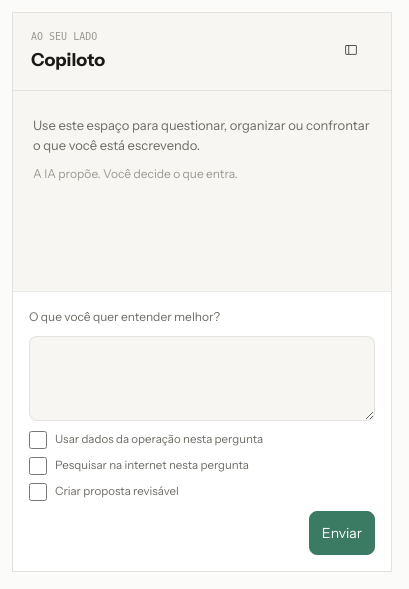
Test case: StudioCopilot › remains usable when preference storage throws
Click the button named "Recolher Copiloto" at x=351, y=52, box [329,30,373,74]
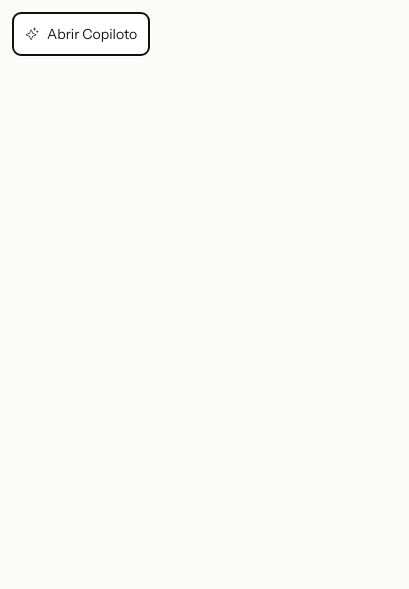
Check: the button "Abrir Copiloto" is shown, box [12,12,150,56]
